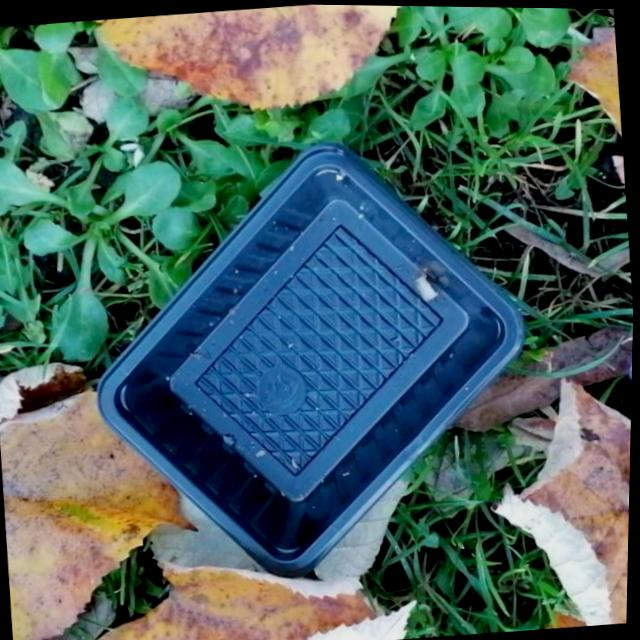Plastic: (70, 117, 553, 601)
